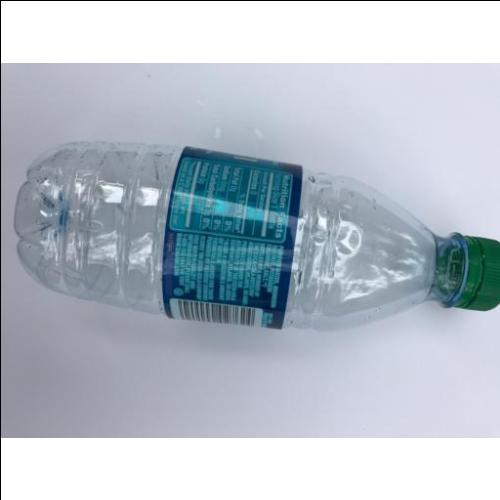plastic: (16, 147, 500, 329)
